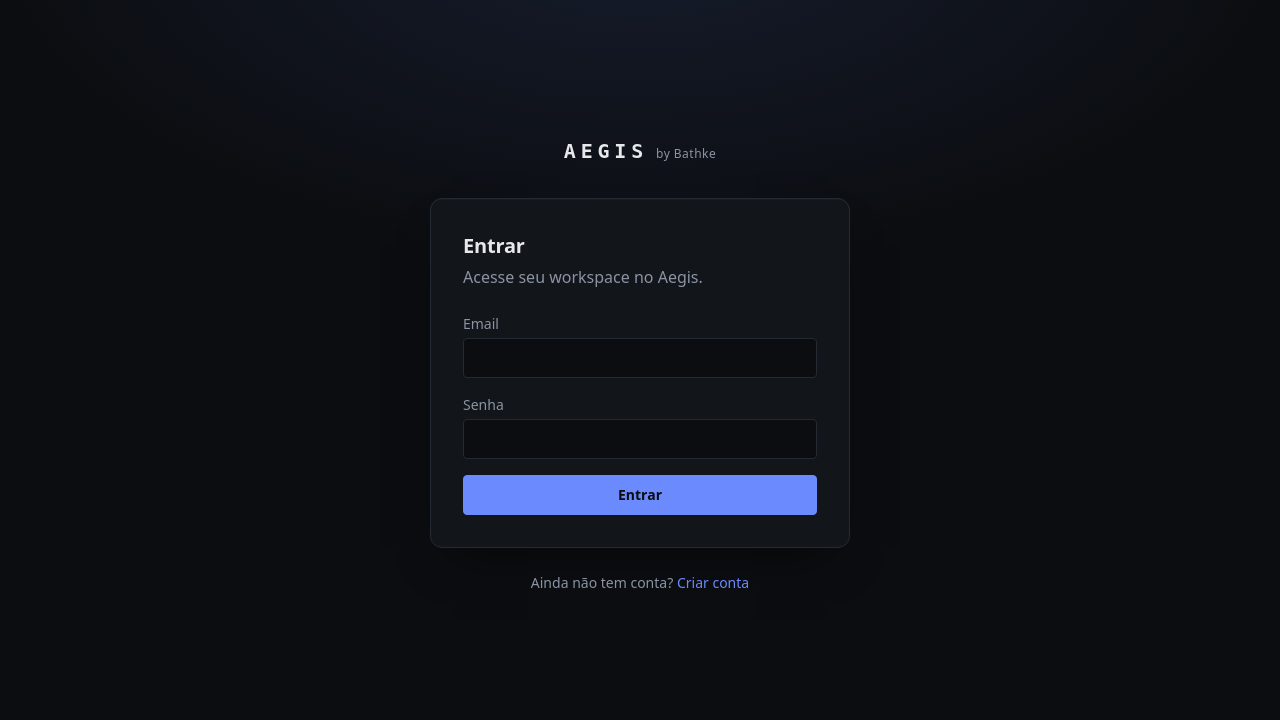
Test case: login › stores the token under the central key and opens the dashboard
Type "ANA.TESTE@EXAMPLE.TEST" into the field labelled "Email" at x=640, y=358, box [463,338,817,378]
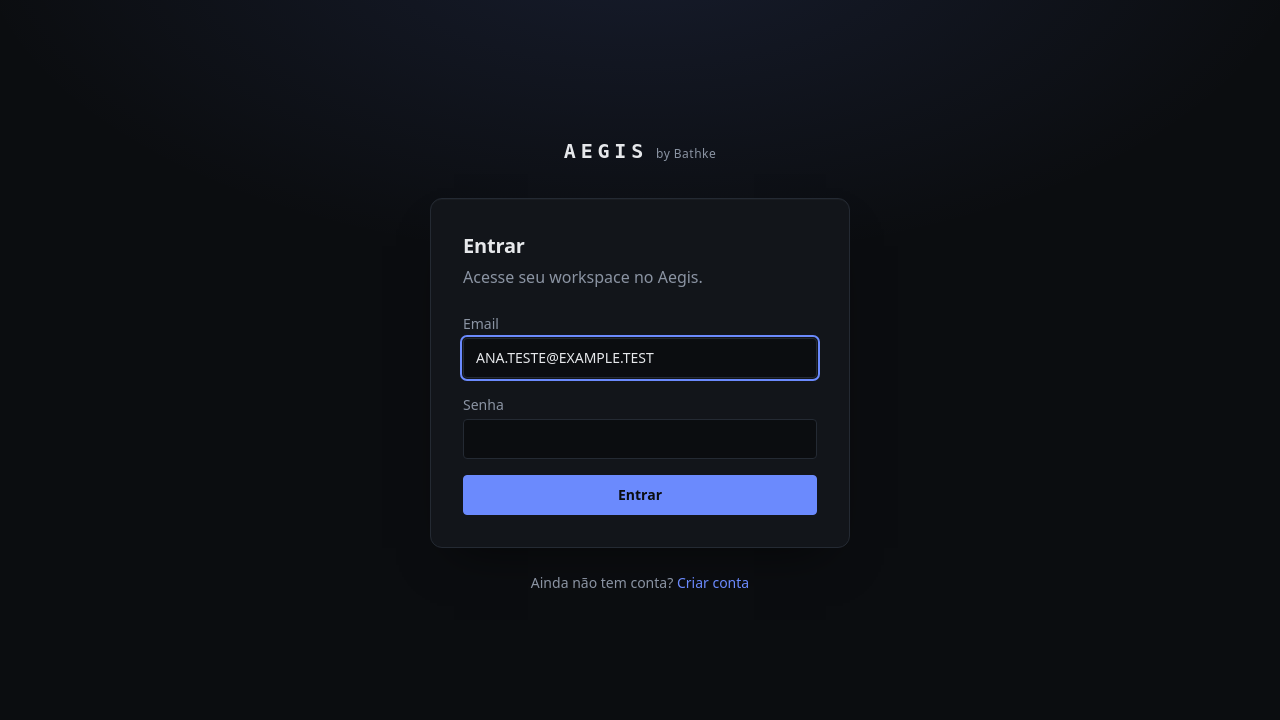
Type "Aegis-Test-Pass1" into the password field labelled "Senha" at x=640, y=438, box [463,418,817,458]
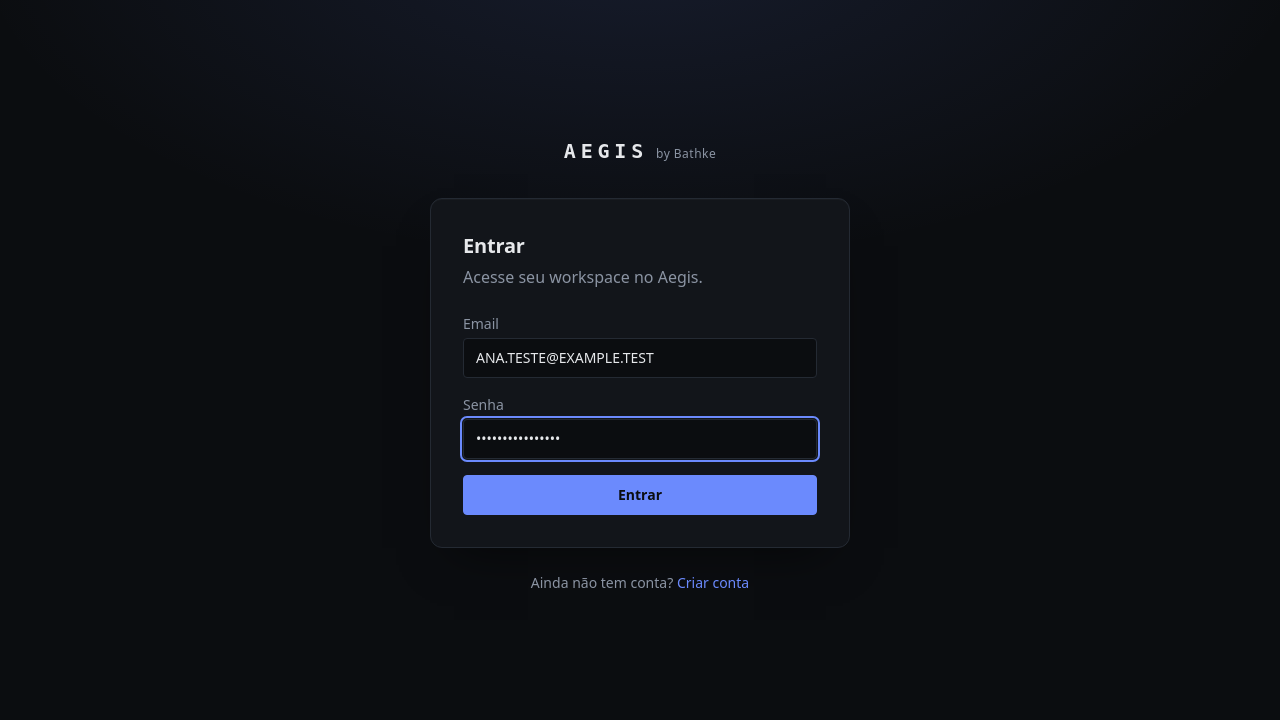
Click the button "Entrar" at x=640, y=494, box [463,474,817,514]
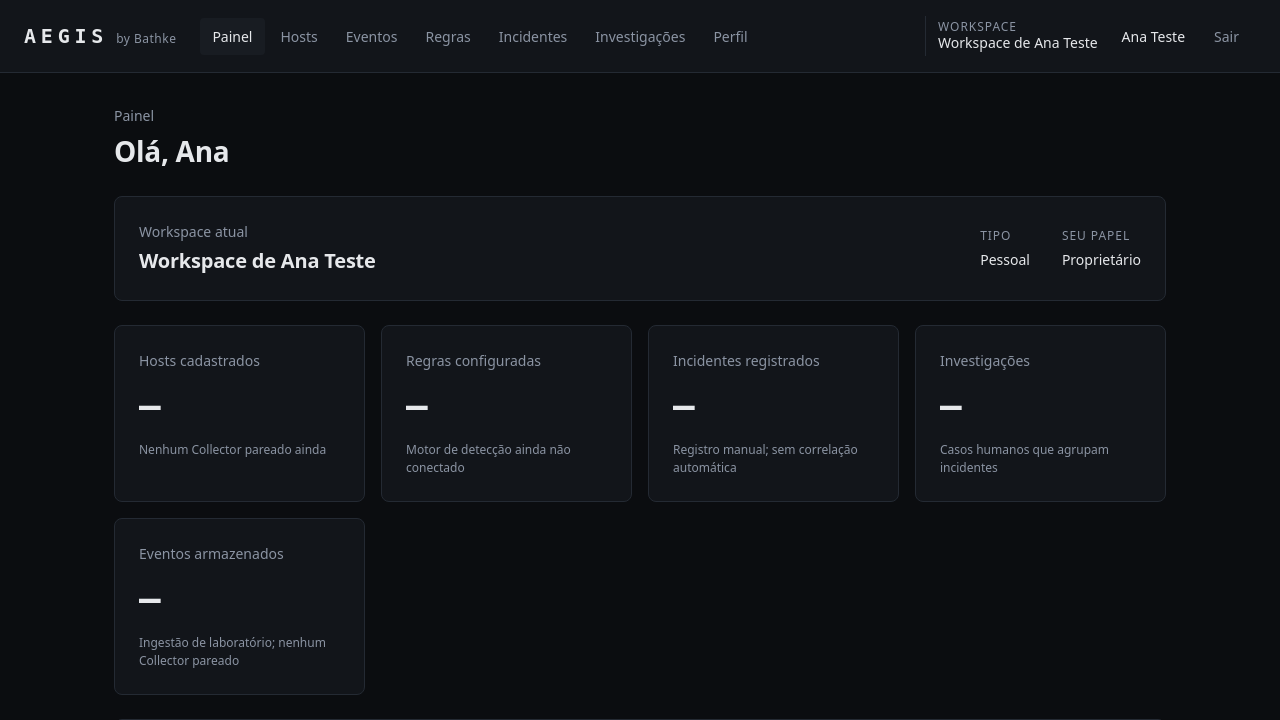
Result: the heading "Olá, Ana" is shown at [114,132,229,170]
